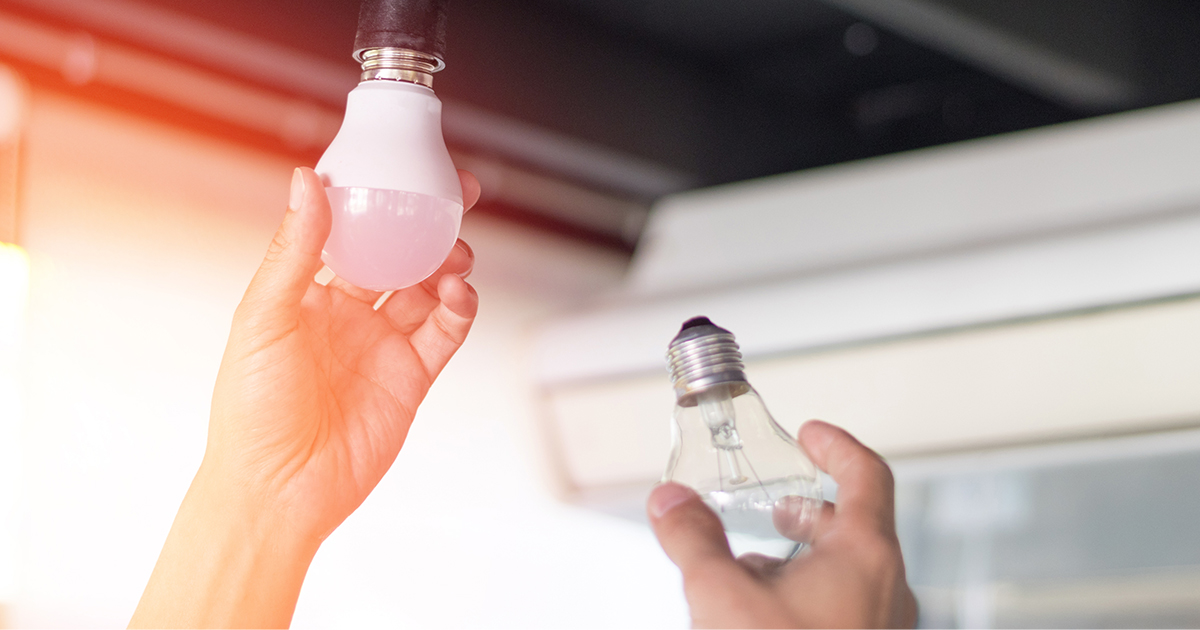Light_bulb: (650, 302, 825, 593), (309, 49, 479, 295)
